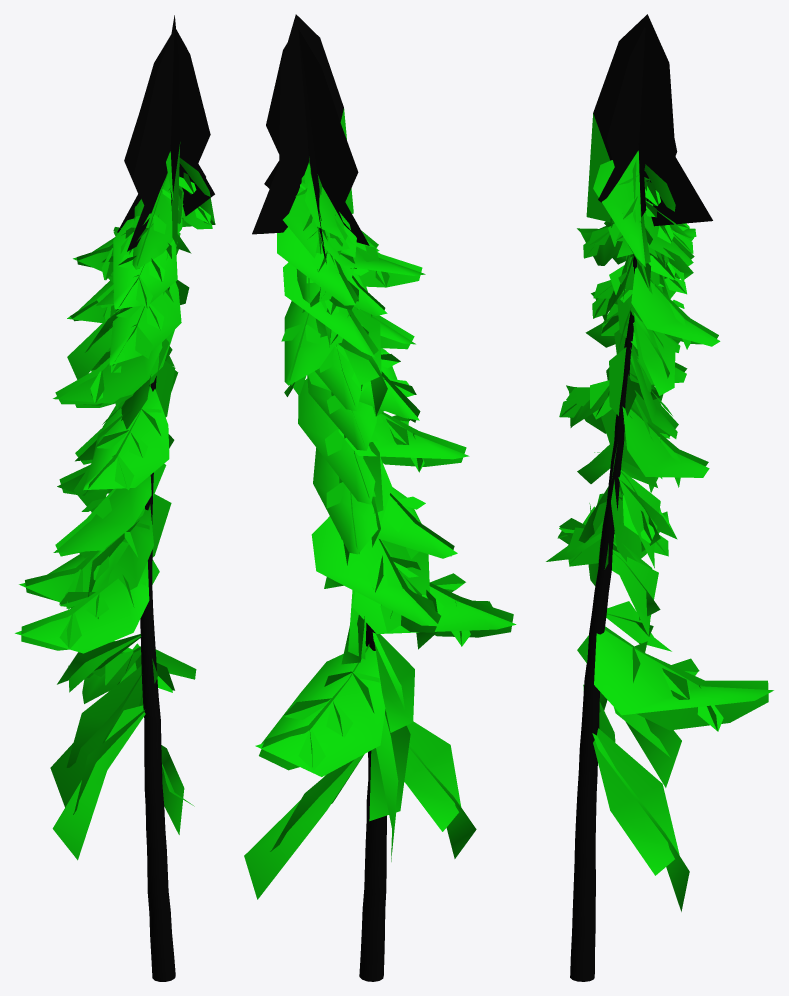
Rendered from pine_004_clump01_A.FBX.
3 renders of one model, left to right at view 1: azimuth 30°, elevation 25°; view 2: azimuth 150°, elevation 25°; view 3: azimuth 270°, elevation 25°, orthographic. The views are drawn at different scales.
Parts seen in each view (by area): view 1: pine_004_clump01_A_LOD0; view 2: pine_004_clump01_A_LOD0; view 3: pine_004_clump01_A_LOD0.
Part boxes in pixels (<box>): pine_004_clump01_A_LOD0: <box>15,15,215,981</box>; pine_004_clump01_A_LOD0: <box>244,14,516,981</box>; pine_004_clump01_A_LOD0: <box>546,14,773,981</box>.
Size of what is drawn, in the model's own units: 457 by 1801 by 380.
